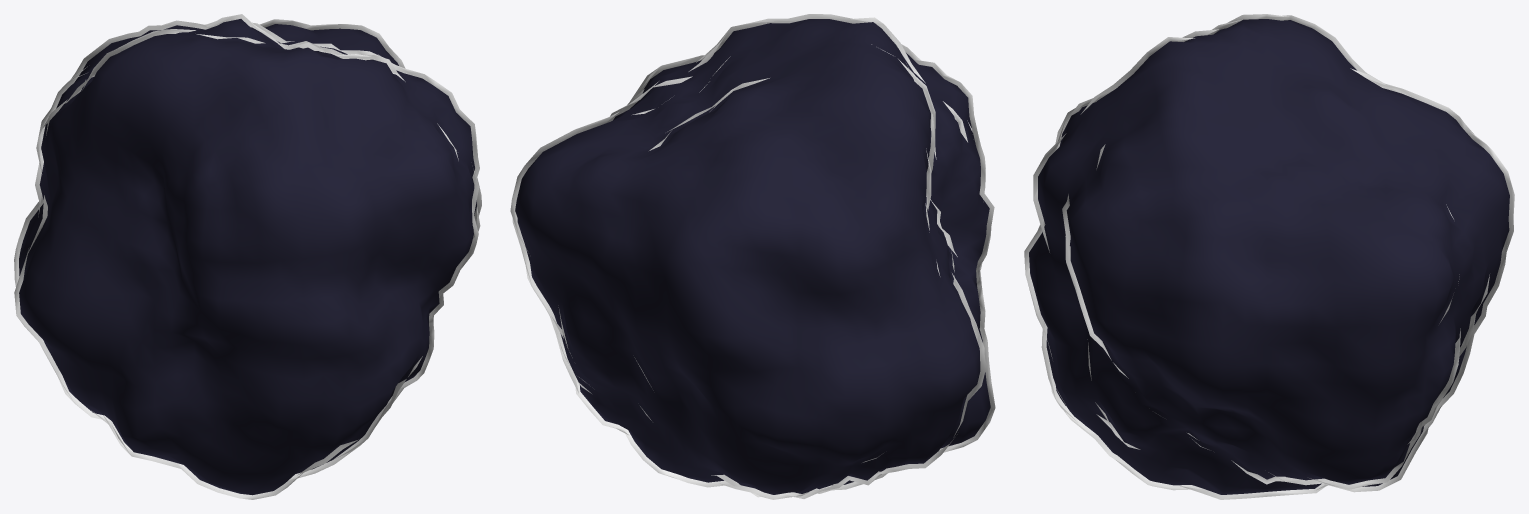
Rendered from rock01.glb.
The picture shows the model from 3 angles, left to right: view 1: azimuth 30°, elevation 25°; view 2: azimuth 150°, elevation 25°; view 3: azimuth 270°, elevation 25°; orthographic projection.
Parts seen in each view (by area): view 1: Cube; view 2: Cube; view 3: Cube.
Boxes of the visible parts, box(x1,y1,x2,y2) form: Cube: box(14, 14, 481, 499); Cube: box(510, 14, 995, 499); Cube: box(1024, 14, 1514, 499).
Bounding box in the file's own units: 1.95 × 1.98 × 2.
